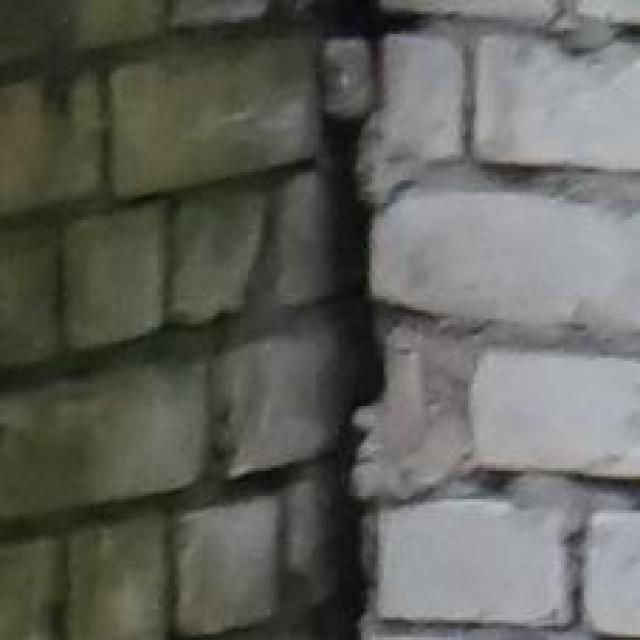Crack: (230, 0, 576, 640)
